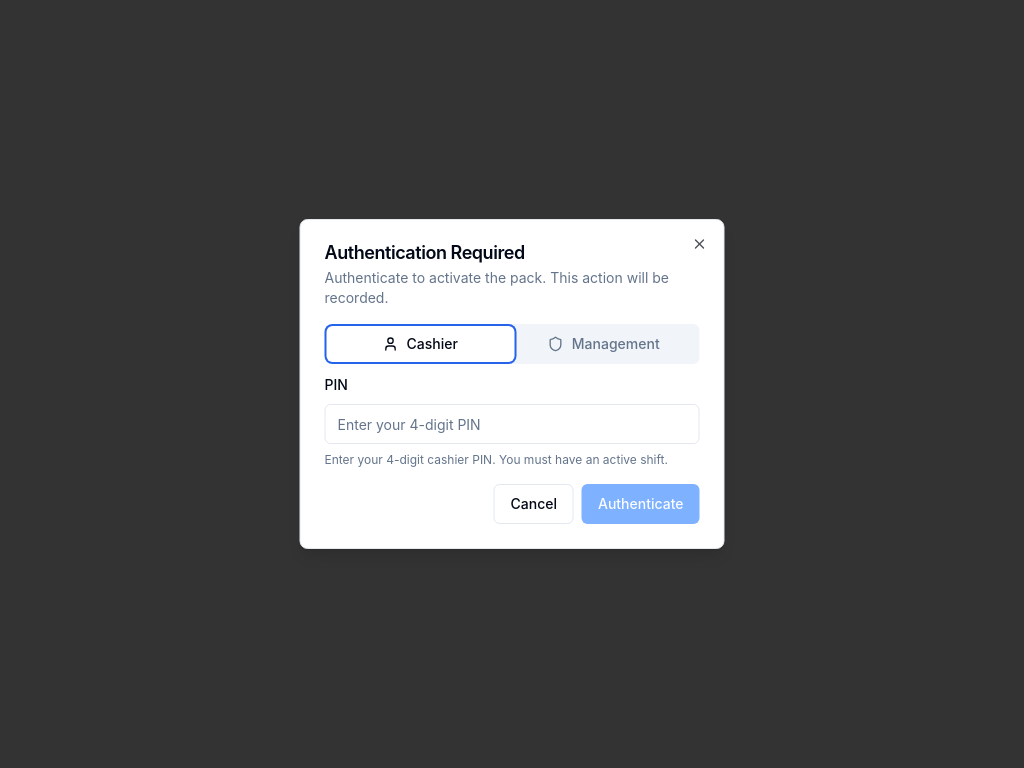
Test case: LotteryAuthModal › Tab Switching › LAM-005: should switch between Cashier and Management tabs
expect the panel with test id "cashier-tab-content" is shown: met, box [324,372,700,524]
Note: Click on Management tab
Click the tab with test id "management-tab". click: click(604, 344)
box: [512,328,696,360]
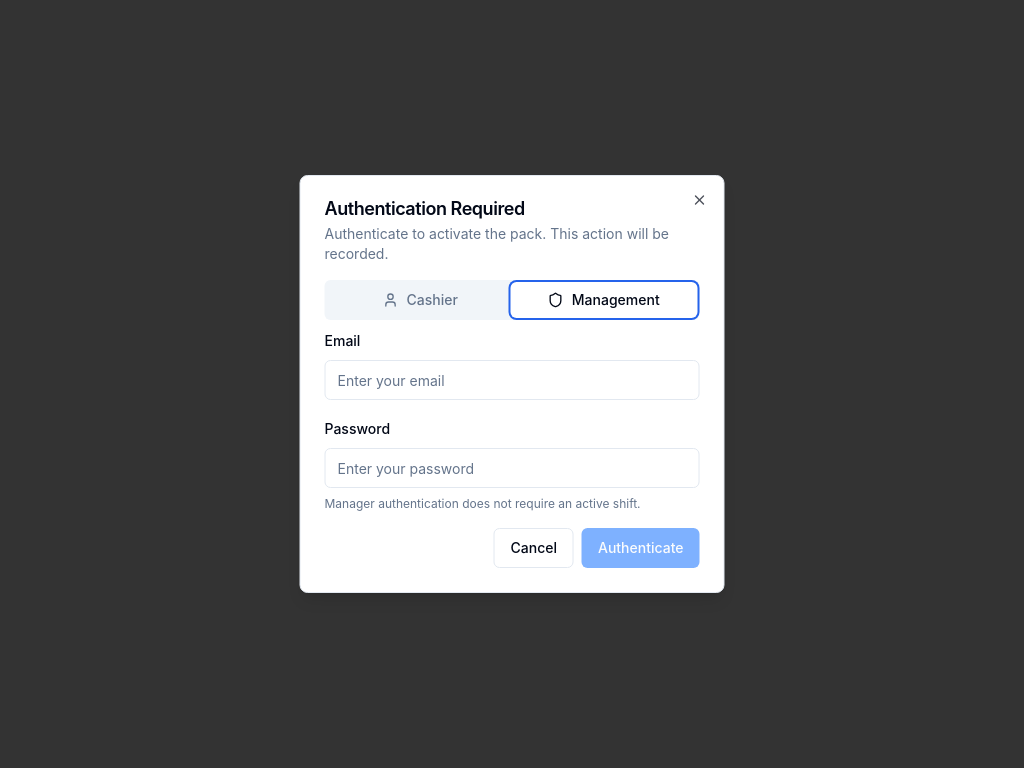
expect the panel with test id "management-tab-content" is shown: met, box [324,328,700,568]
Note: Click back to Cashier tab
Click the tab with test id "cashier-tab". click: click(420, 300)
box: [328,284,512,316]
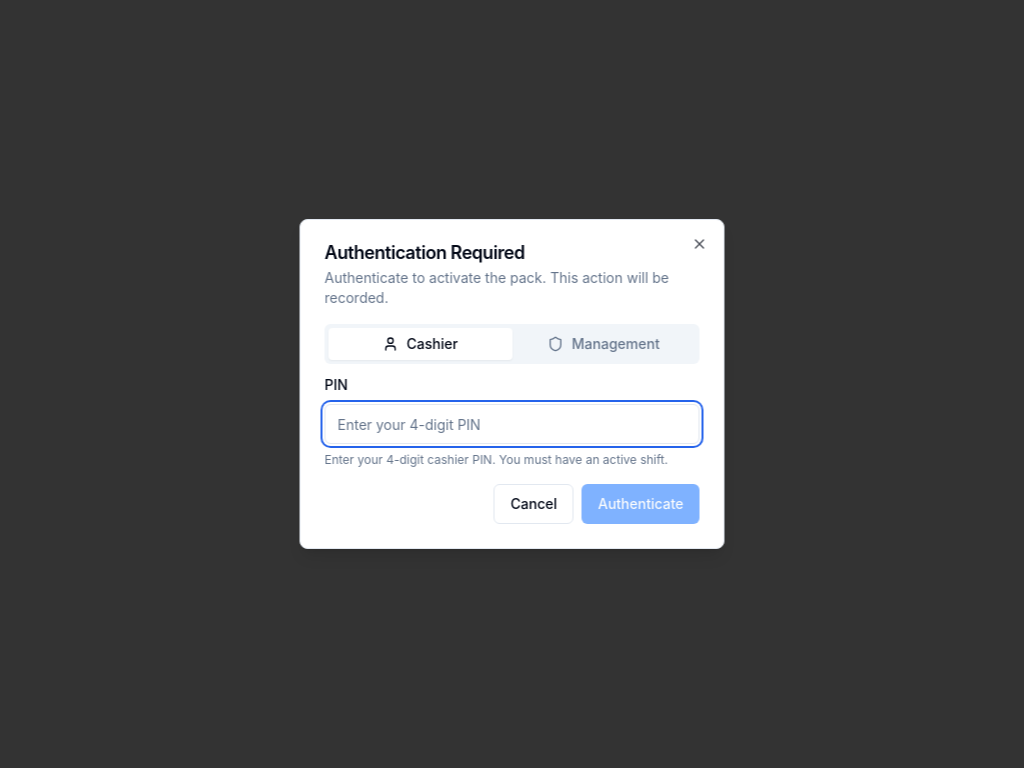
expect the panel with test id "cashier-tab-content" is shown: met, box [324,372,700,524]
